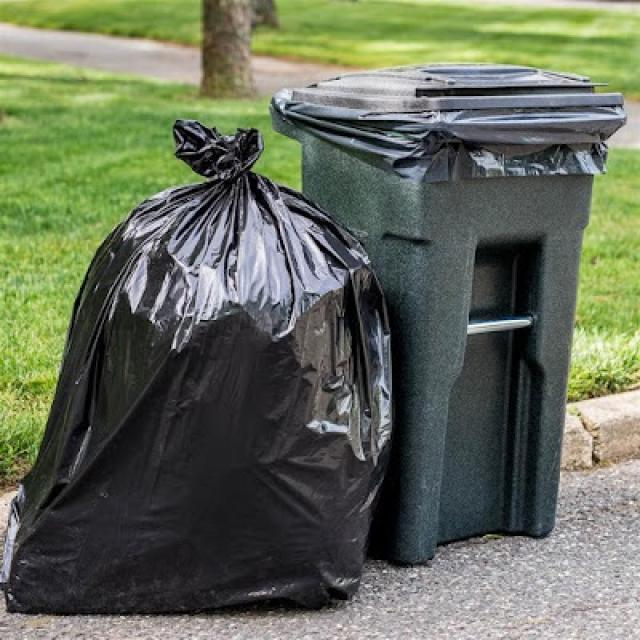Vinyl: (3, 115, 394, 622)
